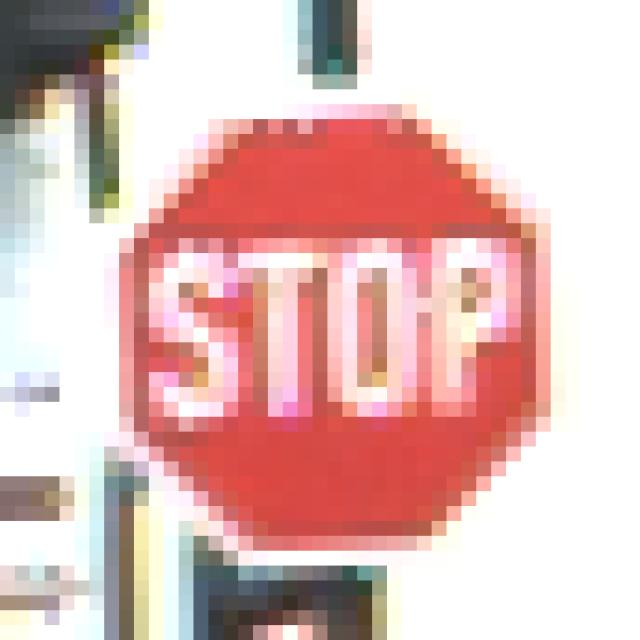stop: (129, 127, 562, 525)
